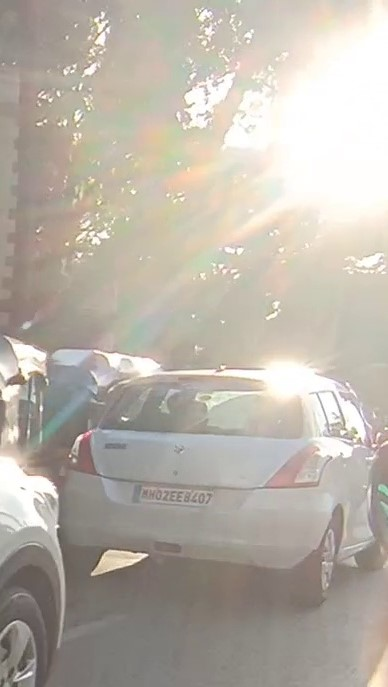MH02EE8407: (131, 483, 216, 509)
